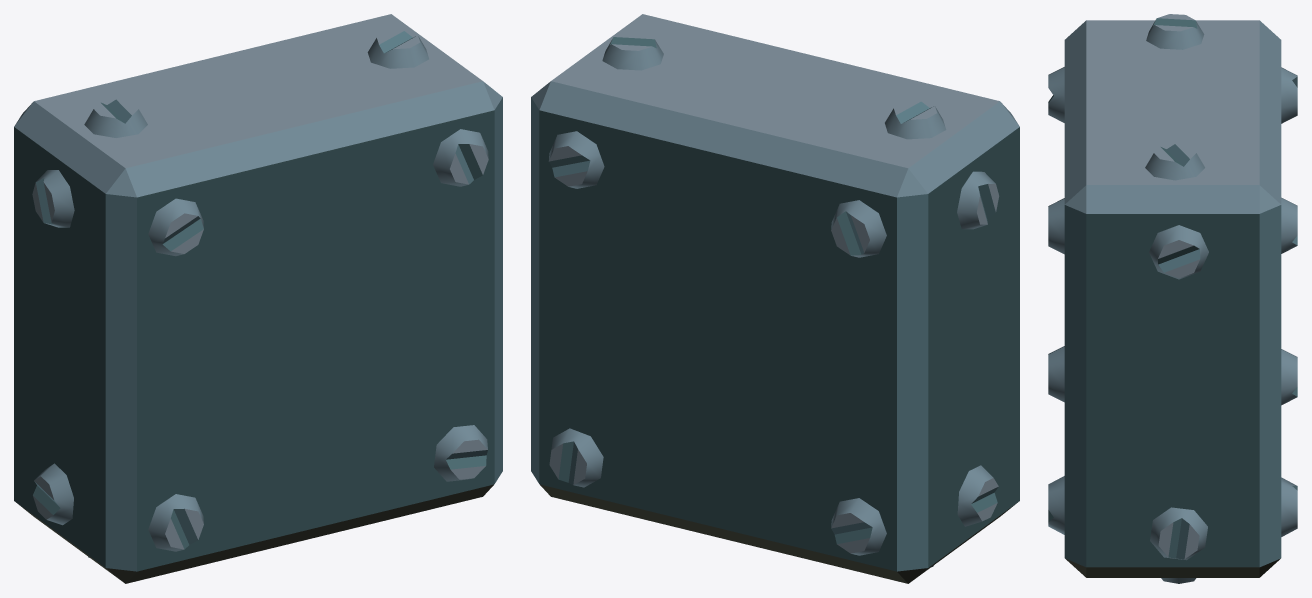
File: m_kub_metal_halfBig.FBX
3 views of the same model, side by side, from view 1: azimuth 30°, elevation 25°; view 2: azimuth 150°, elevation 25°; view 3: azimuth 270°, elevation 25° (orthographic). The views are drawn at different scales.
Parts seen in each view (by area): view 1: m_kub_metal_halfBig; view 2: m_kub_metal_halfBig; view 3: m_kub_metal_halfBig.
Boxes of the visible parts, box(x1,y1,x2,y2) form: m_kub_metal_halfBig: box(14, 14, 502, 583); m_kub_metal_halfBig: box(531, 14, 1019, 583); m_kub_metal_halfBig: box(1048, 14, 1297, 583).
Bounding box in the file's own units: 2.15 × 2.15 × 1.15.
